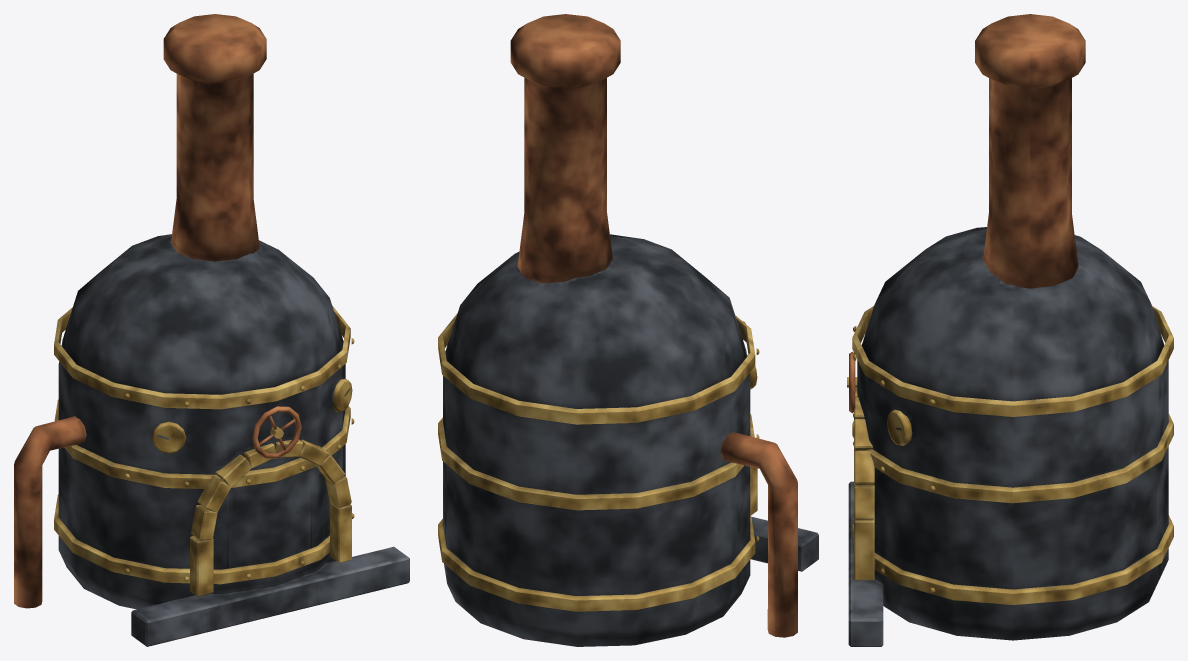
Rendered from ClockLung_Furnace.fbx.
The picture shows the model from 3 angles, left to right: view 1: azimuth 30°, elevation 25°; view 2: azimuth 150°, elevation 25°; view 3: azimuth 270°, elevation 25°; orthographic projection. The views are drawn at different scales.
Visible parts, largest first — view 1: ClockLung_Furnace; view 2: ClockLung_Furnace; view 3: ClockLung_Furnace.
Boxes of the visible parts, x1=… form: ClockLung_Furnace: x1=14, y1=14, x2=409, y2=646; ClockLung_Furnace: x1=438, y1=14, x2=818, y2=646; ClockLung_Furnace: x1=847, y1=14, x2=1173, y2=646.
Size of the model in its own units: 2.29 by 3.55 by 1.89.
